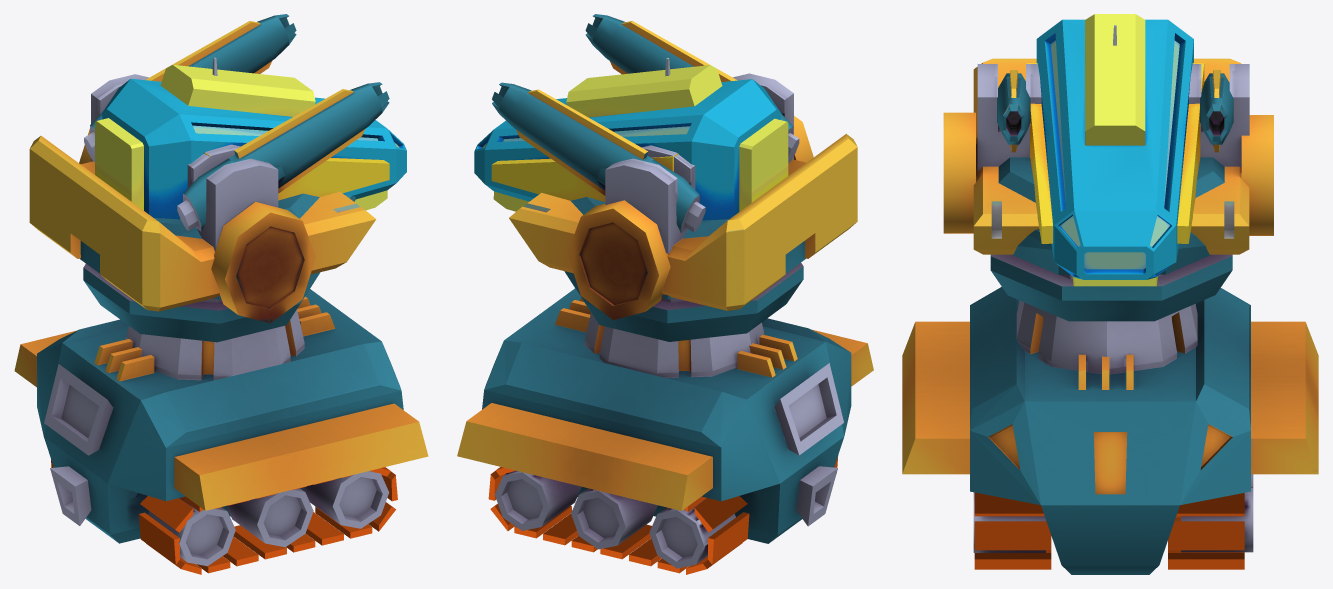
File: Player_Idle_1_Upgrade5.obj
3 renders of one model, left to right at view 1: azimuth 30°, elevation 25°; view 2: azimuth 150°, elevation 25°; view 3: azimuth 270°, elevation 25°, orthographic. The views are drawn at different scales.
Visible parts, largest first — view 1: Object008, Object014, Box009, Box017; view 2: Object008, Object014, Box009, Box016; view 3: Object008, Box017, Box016, Object014, Box009.
Part boxes in pixels (left/top/right/bottom): Object008: left=14, top=64, right=428, bottom=543; Object014: left=84, top=14, right=389, bottom=231; Box009: left=148, top=471, right=389, bottom=566; Box017: left=139, top=467, right=397, bottom=574; Object008: left=457, top=65, right=873, bottom=543; Object014: left=492, top=14, right=799, bottom=233; Box009: left=495, top=470, right=735, bottom=568; Box016: left=488, top=467, right=749, bottom=574; Object008: left=902, top=14, right=1318, bottom=574; Box017: left=974, top=492, right=1051, bottom=569; Box016: left=1168, top=493, right=1244, bottom=569; Object014: left=997, top=70, right=1233, bottom=152; Box009: left=973, top=474, right=1253, bottom=552.
Size of the model in its own units: 65.77 by 86.08 by 66.14.
4 materials, 2 textured.
